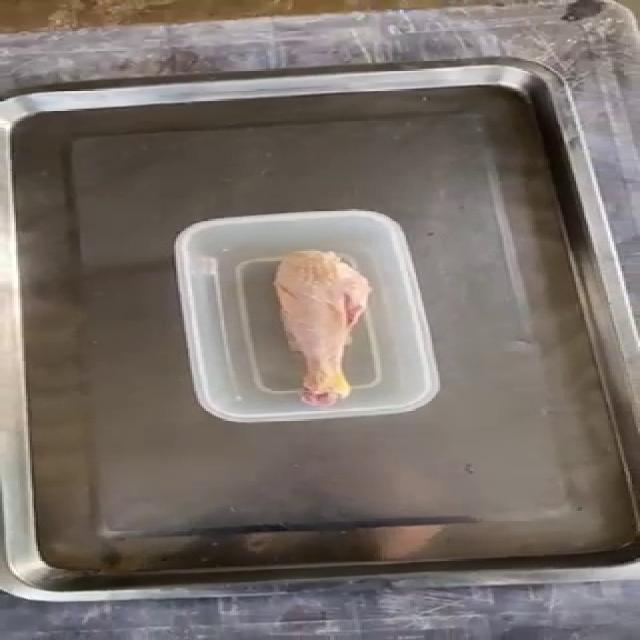chicken: (272, 248, 371, 407)
